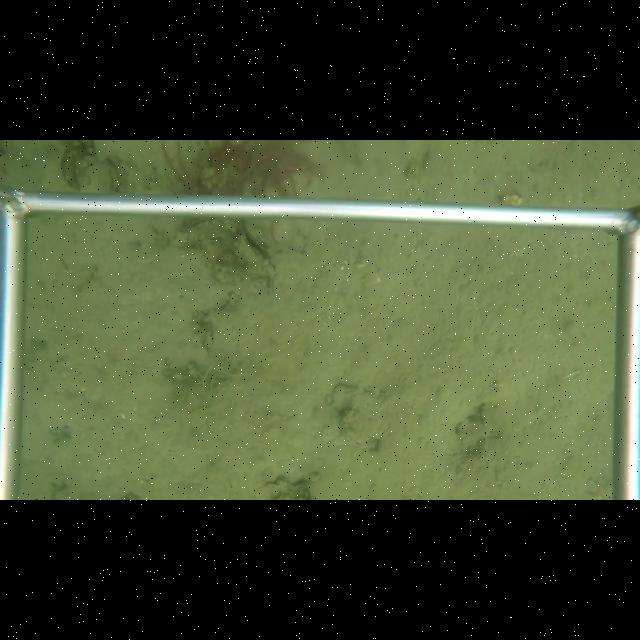Oyster-Closed: (58, 146, 83, 189), (235, 233, 263, 262)
